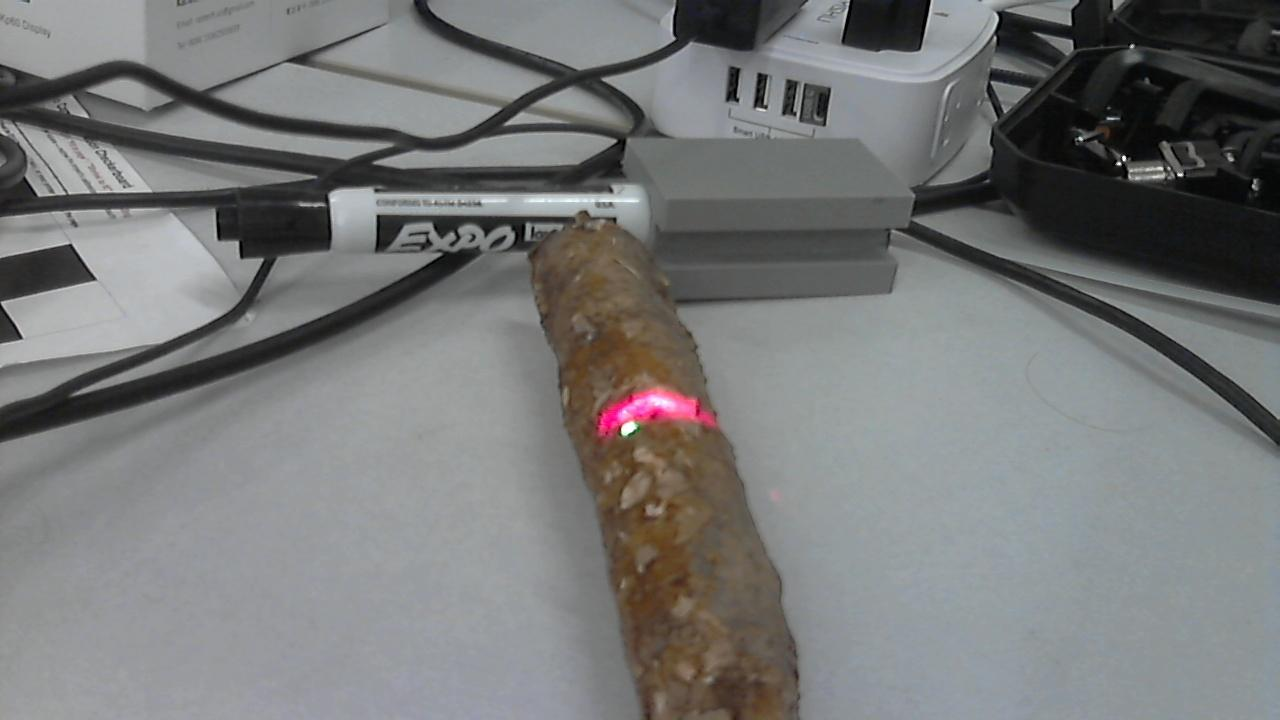Object tree branch - Material wood - Pdfname pipoaepaf: (597, 381, 720, 442)
